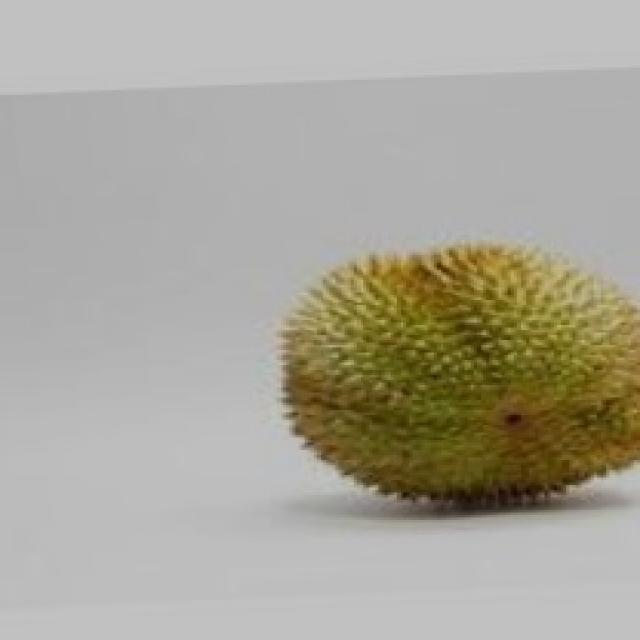fruit: (234, 200, 634, 545)
